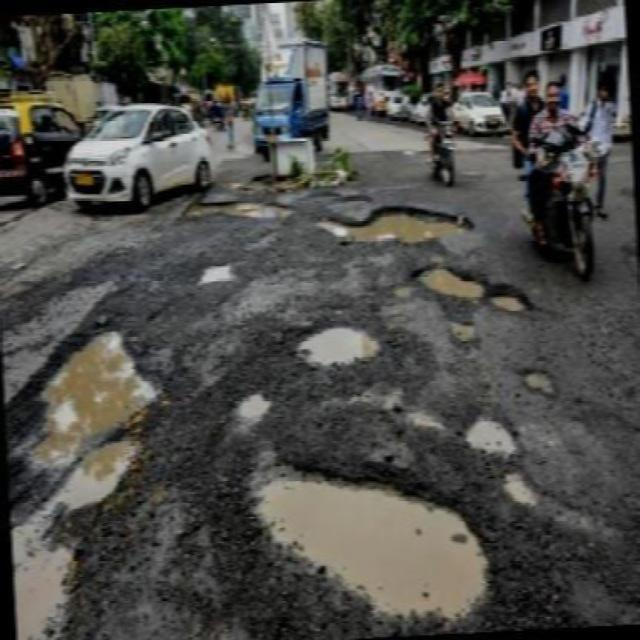Pothole: (221, 442, 570, 640), (0, 308, 156, 501), (298, 188, 488, 260), (0, 513, 86, 640), (288, 311, 385, 381), (188, 190, 298, 236), (403, 258, 488, 310), (454, 406, 524, 456), (224, 381, 288, 430), (188, 254, 256, 296), (484, 281, 545, 314), (512, 361, 556, 404), (434, 312, 488, 346)
